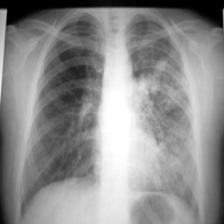tuberculosis: (9, 9, 209, 224)
